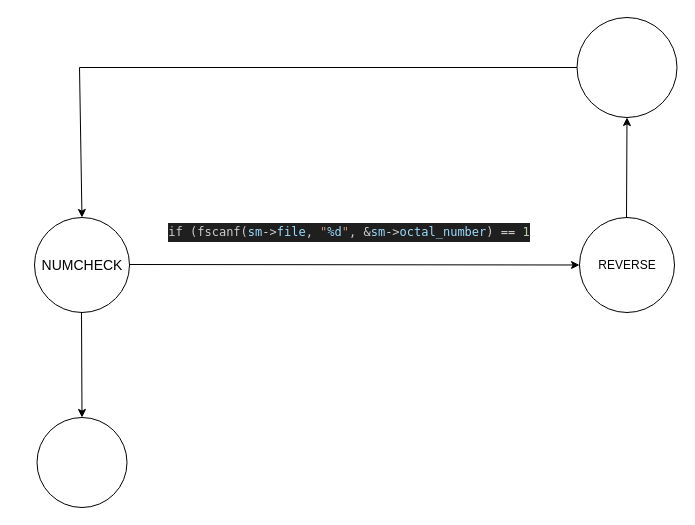
Image size: 695x525. Some labels were removed from this diagram. Here are the shapes that lost their labels. From the top down, the box of each, then its label:
(576, 16, 677, 118): CONVERT
(36, 416, 127, 508): END
